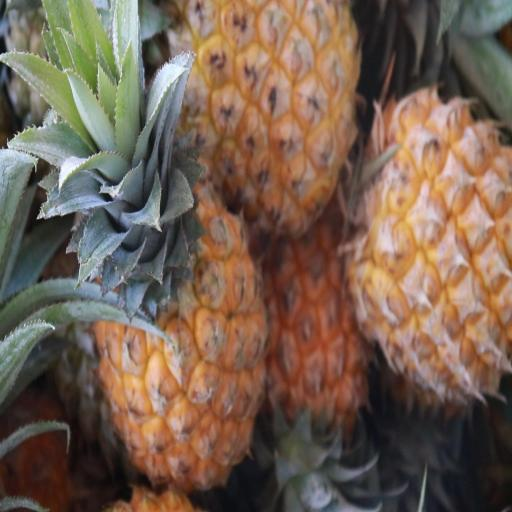Pineapple - v8 v1: (84, 128, 271, 488), (357, 81, 512, 391), (192, 0, 365, 237), (268, 209, 398, 433)
